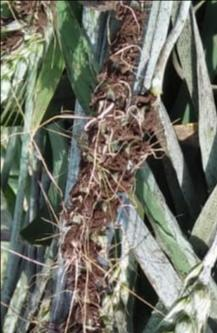Wheat: (98, 127, 145, 152), (85, 160, 131, 183), (101, 102, 145, 123), (71, 193, 115, 214), (77, 249, 100, 289), (78, 290, 99, 326), (75, 218, 99, 243), (114, 47, 134, 75), (102, 77, 128, 98), (123, 15, 141, 39), (41, 14, 58, 35), (81, 183, 125, 190), (15, 0, 36, 14), (4, 35, 23, 50), (63, 239, 72, 254)
